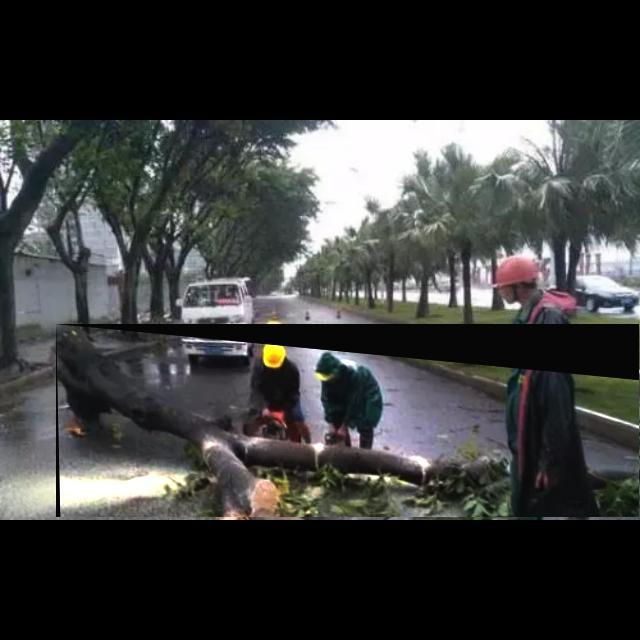fallen_tree: (56, 324, 640, 518)
